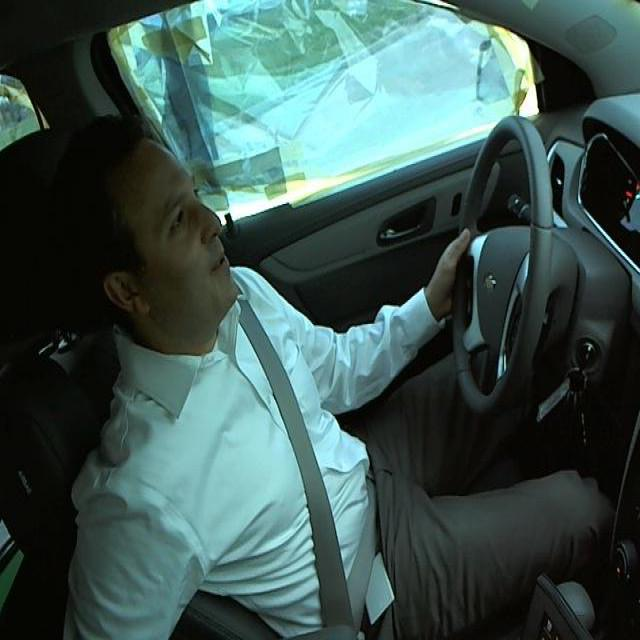seatbelt: (233, 319, 389, 632)
